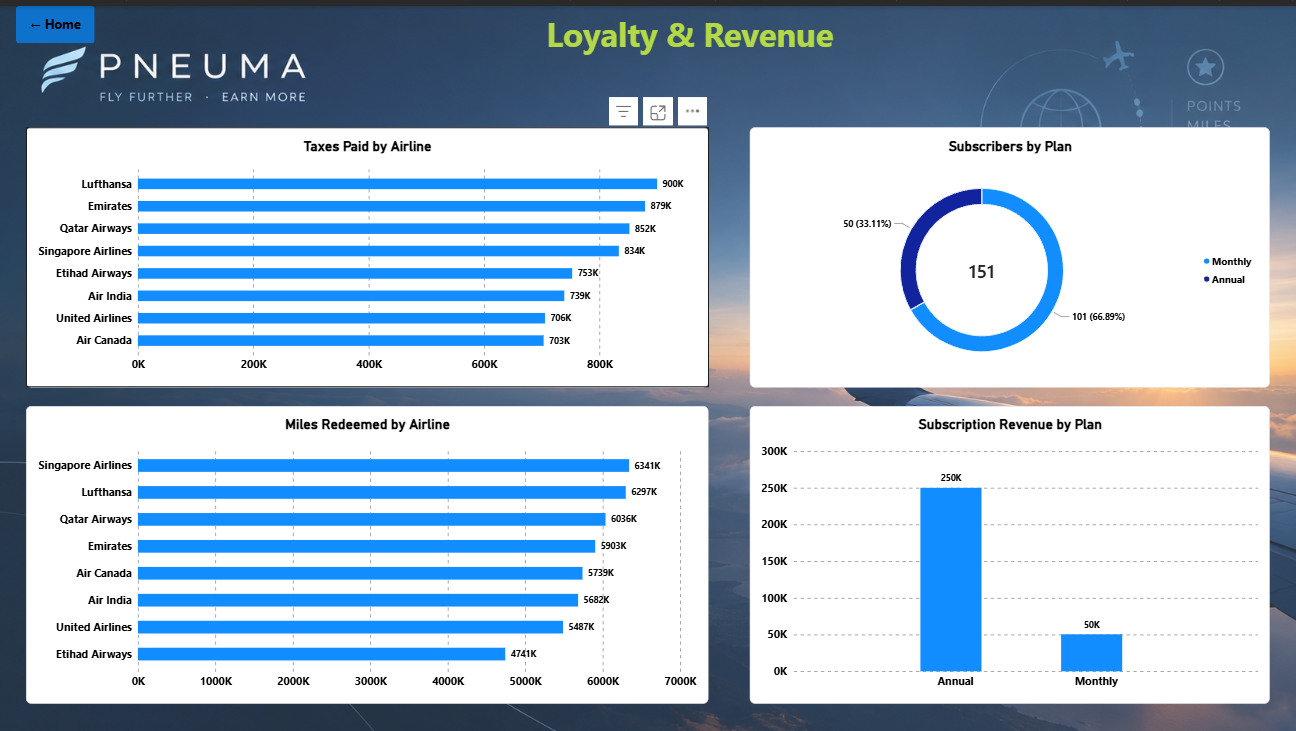

This screenshot's page, from the dashboard's own definition file:
{"tool":"powerbi","page":{"name":"Loyalty & Revenue","canvas":[1920,1080],"ordinal":6},"visuals":[{"type":"textbox","box":[180.4,0,1669.3,114.1],"z":0},{"type":"clusteredBarChart","title":"Miles Redeemed by Airline","fields":{"Category":["award_results.airline"],"Y":["bookings.Miles by Airline"]},"box":[44.2,589,1004.5,438.4],"z":1000},{"type":"clusteredColumnChart","title":"Subscription Revenue by Plan","fields":{"Category":["subscriptions.plan"],"Y":["subscriptions.Total Revenue"]},"box":[1109.4,588.7,765.7,438.4],"z":2000},{"type":"donutChart","title":"Subscribers by Plan","fields":{"Category":["subscriptions.plan"],"Y":["CountNonNull(subscriptions.subscription_id)"]},"box":[1109.4,179.1,765.7,382.8],"z":3000},{"type":"clusteredBarChart","title":"Taxes Paid by Airline","fields":{"Category":["award_results.airline"],"Y":["bookings.Taxes by Airline"]},"box":[44.2,178.5,1004.5,382.8],"z":4000},{"type":"actionButton","box":[29.4,0,116,55],"z":4001}]}

Visuals, with their boxes in screenshot pixels (x1, y1, x2, y2), scaled from the page's 1920x1080 canvas onto the 1296x731 screenshot:
textbox: rect(122, 0, 1249, 77)
"Miles Redeemed by Airline" clusteredBarChart: rect(30, 399, 708, 695)
"Subscription Revenue by Plan" clusteredColumnChart: rect(749, 398, 1266, 695)
"Subscribers by Plan" donutChart: rect(749, 121, 1266, 380)
"Taxes Paid by Airline" clusteredBarChart: rect(30, 121, 708, 380)
actionButton: rect(20, 0, 98, 37)
